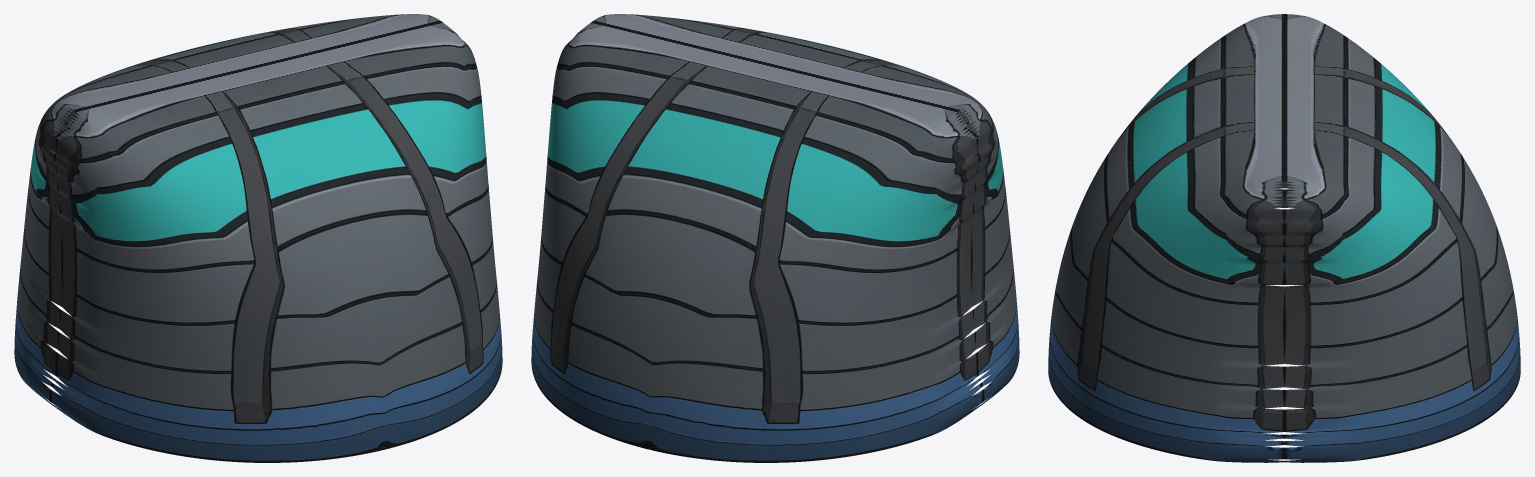
The model's file is rear_wall.glb.
The picture shows the model from 3 angles, left to right: view 1: azimuth 30°, elevation 25°; view 2: azimuth 150°, elevation 25°; view 3: azimuth 270°, elevation 25°; orthographic projection. The views are drawn at different scales.
Visible parts, largest first — view 1: rear_wall; view 2: rear_wall; view 3: rear_wall.
Boxes of the visible parts, x1=… form: rear_wall: x1=14, y1=14, x2=502, y2=462; rear_wall: x1=531, y1=14, x2=1019, y2=462; rear_wall: x1=1048, y1=14, x2=1520, y2=462.
Bounding box in the file's own units: 0.989 × 0.6625 × 1.04.
1 material, 1 textured.
